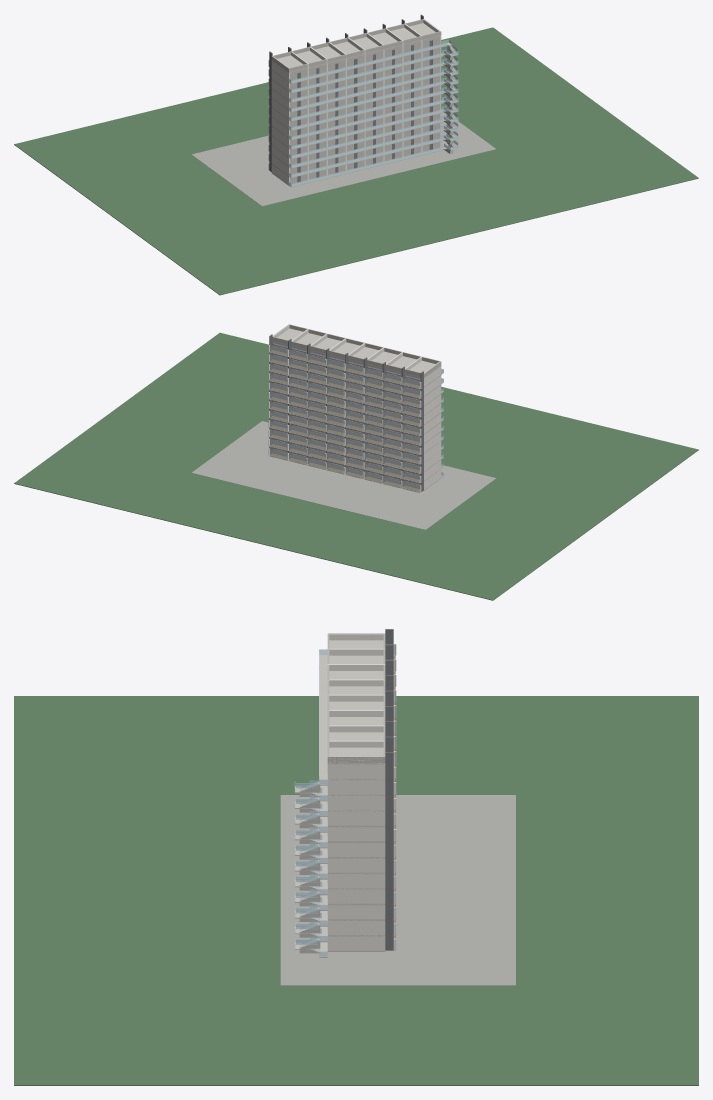
The model's file is privacy_apartments.glb.
3 views of the same model, one above another, from view 1: azimuth 30°, elevation 25°; view 2: azimuth 150°, elevation 25°; view 3: azimuth 270°, elevation 25° (orthographic). The views are drawn at different scales.
Parts seen in each view (by area): view 1: Ground, Plaza, PartyPrivacyWall_00, Slab_12, Parapet_Back, Parapet_Front, FloorHandrailRear_F11, FloorHandrailRear_F09, FloorHandrailRear_F00, FloorHandrailRear_F04, FloorHandrailRear_F06, FloorHandrailRear_F07 (+18 smaller); view 2: Ground, Plaza, PartyPrivacyWall_00, Slab_12, Parapet_Back, Parapet_Front; view 3: Ground, Plaza, PartyPrivacyWall_08, Slab_12, FacadePrivacyFin_08, RearWalkway_11.
Boxes of the visible parts, box(x1,y1,x2,y2) form: Ground: box(14, 27, 698, 295); Plaza: box(191, 109, 495, 206); PartyPrivacyWall_00: box(271, 56, 289, 184); Slab_12: box(271, 23, 440, 72); Parapet_Back: box(288, 31, 441, 71); Parapet_Front: box(272, 19, 423, 58); FloorHandrailRear_F11: box(291, 42, 447, 83); FloorHandrailRear_F09: box(291, 62, 443, 101); FloorHandrailRear_F00: box(291, 147, 443, 186); FloorHandrailRear_F04: box(291, 109, 443, 148); FloorHandrailRear_F06: box(291, 90, 443, 130); FloorHandrailRear_F07: box(291, 81, 443, 120); Ground: box(14, 332, 698, 600); Plaza: box(191, 421, 496, 529); PartyPrivacyWall_00: box(424, 362, 441, 489); Slab_12: box(272, 328, 441, 378); Parapet_Back: box(288, 324, 441, 363); Parapet_Front: box(272, 337, 424, 377); Ground: box(14, 696, 698, 1085); Plaza: box(280, 795, 515, 985); PartyPrivacyWall_08: box(327, 756, 385, 950); Slab_12: box(327, 640, 385, 764); FacadePrivacyFin_08: box(385, 752, 393, 950); RearWalkway_11: box(319, 654, 327, 778).
Size of what is drawn, in the model's own units: 176 by 42.3 by 131.
